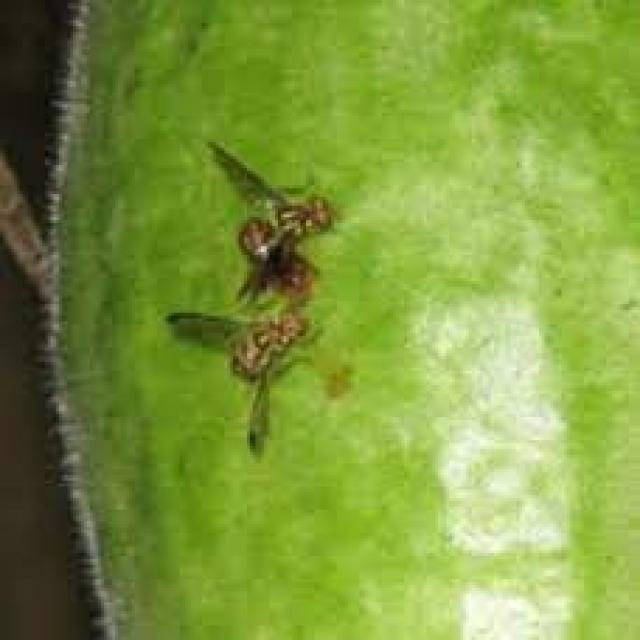Fruit fly: (156, 293, 335, 463), (202, 130, 339, 317)
